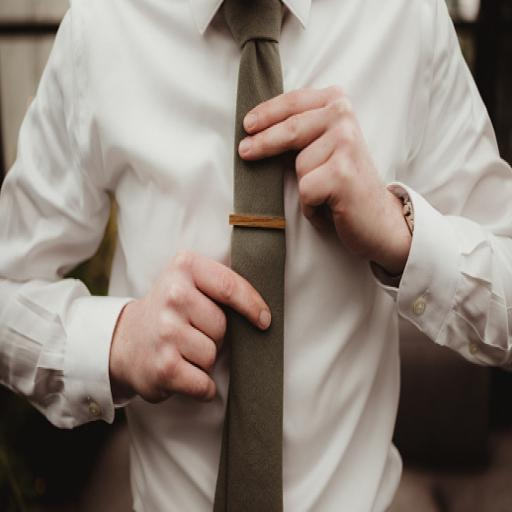person: (0, 0, 511, 510)
tie: (211, 0, 285, 510)
